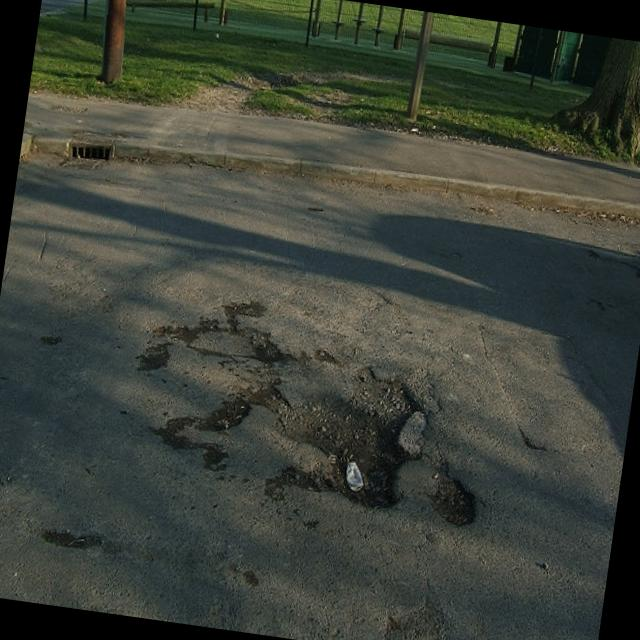Potholes: (110, 282, 513, 566), (28, 488, 126, 576)
